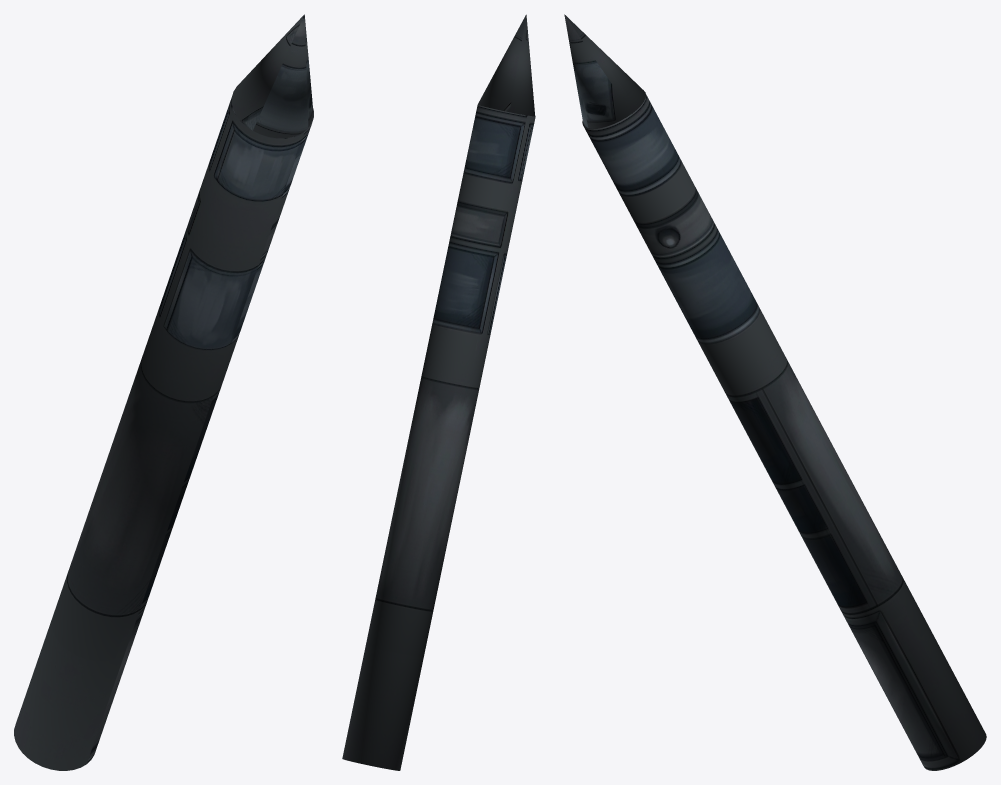
The model's file is PortaCaneta.fbx.
The picture shows the model from 3 angles, left to right: view 1: azimuth 30°, elevation 25°; view 2: azimuth 150°, elevation 25°; view 3: azimuth 270°, elevation 25°; orthographic projection. The views are drawn at different scales.
Parts seen in each view (by area): view 1: Cone; view 2: Cone; view 3: Cone.
Part boxes in pixels (bbox=[...]): Cone: bbox=[14, 14, 313, 770]; Cone: bbox=[342, 14, 535, 770]; Cone: bbox=[564, 14, 986, 770].
Bounding box in the file's own units: 64.88 × 658 × 333.
